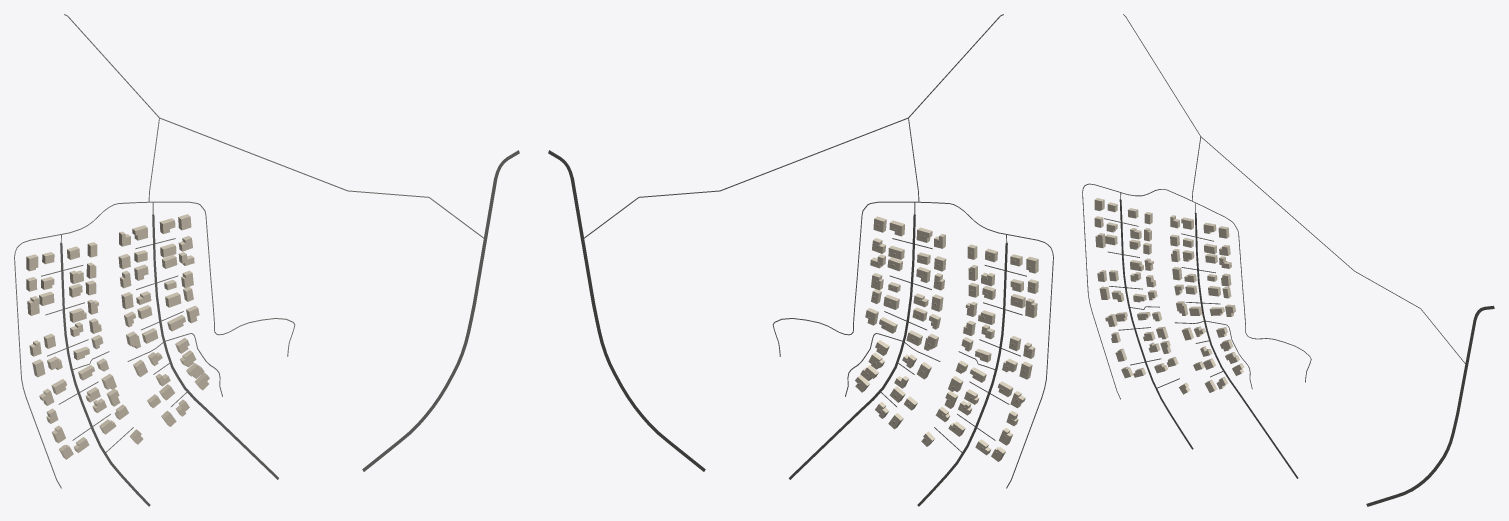
Rendered from historic-palestine-07_22_3487_3165.glb.
The picture shows the model from 3 angles, left to right: view 1: azimuth 30°, elevation 25°; view 2: azimuth 150°, elevation 25°; view 3: azimuth 330°, elevation 25°; orthographic projection. The views are drawn at different scales.
Visible parts, largest first — view 1: Road .002, Road .005, Road .003, Road .004, Road; view 2: Road .002, Road .005, Road .003, Road .004, Road; view 3: Road .002, Road .005, Road .003, Road .004, Road.
Boxes of the visible parts, x1,y1,x2,y2 form: Road .002: [362, 150, 519, 471]; Road .005: [14, 201, 295, 488]; Road .003: [152, 214, 278, 479]; Road .004: [60, 243, 150, 506]; Road: [64, 14, 485, 238]; Road .002: [548, 150, 705, 471]; Road .005: [772, 201, 1053, 488]; Road .003: [789, 214, 915, 479]; Road .004: [917, 243, 1007, 506]; Road: [582, 14, 1003, 239]; Road .002: [1366, 305, 1494, 506]; Road .005: [1082, 183, 1311, 399]; Road .003: [1194, 213, 1298, 478]; Road .004: [1119, 199, 1193, 449]; Road: [1123, 14, 1465, 363].
Bounding box in the file's own units: 705 × 707 × 8.7.
